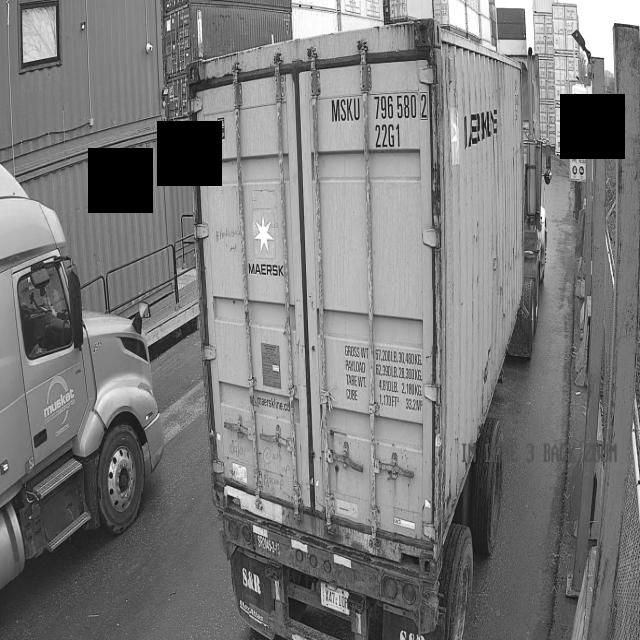container_company_logo: (247, 208, 282, 285)
container_number: (330, 95, 430, 152)
license_plate: (317, 584, 353, 615)
other_container_info: (342, 337, 423, 415)
truck_cabin: (0, 164, 164, 589)
truck_company: (44, 376, 75, 424)
truck_with_container: (188, 19, 551, 640)
